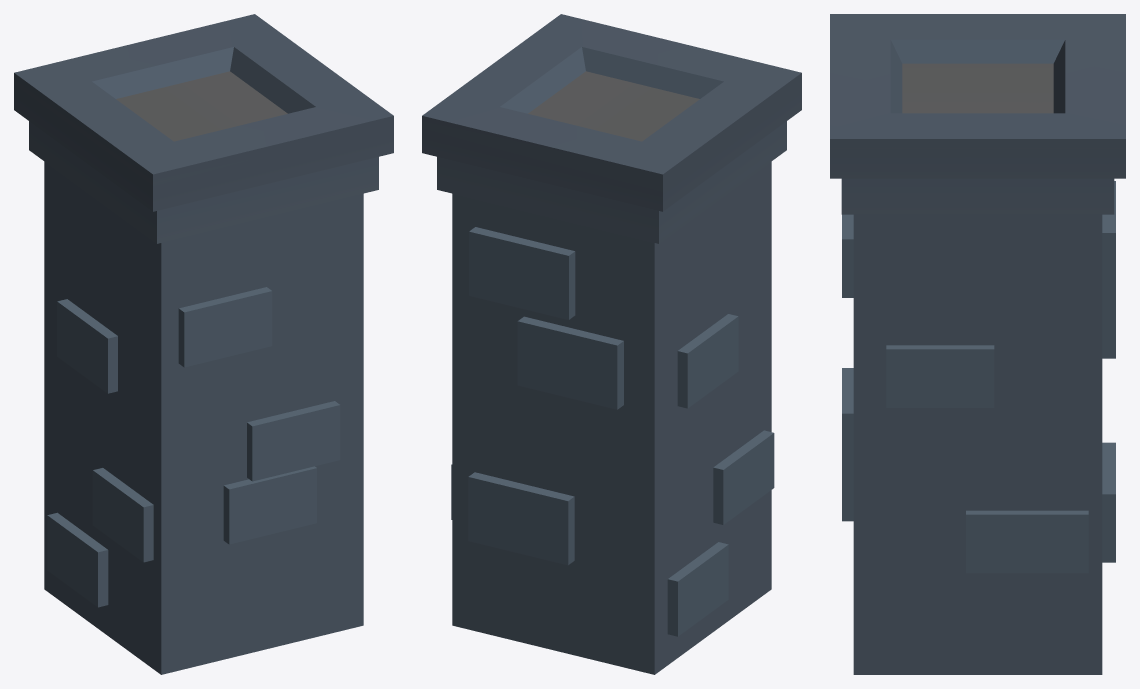
Rendered from Chimney_4_D_1.fbx.
The picture shows the model from 3 angles, left to right: view 1: azimuth 30°, elevation 25°; view 2: azimuth 150°, elevation 25°; view 3: azimuth 270°, elevation 25°; orthographic projection. The views are drawn at different scales.
Parts seen in each view (by area): view 1: Chimney_4_D_1; view 2: Chimney_4_D_1; view 3: Chimney_4_D_1.
Boxes of the visible parts, <box> form: Chimney_4_D_1: <box>14,14,393,674</box>; Chimney_4_D_1: <box>422,14,801,674</box>; Chimney_4_D_1: <box>830,14,1125,674</box>.
Bounding box in the file's own units: 82.7 × 168 × 82.7.
